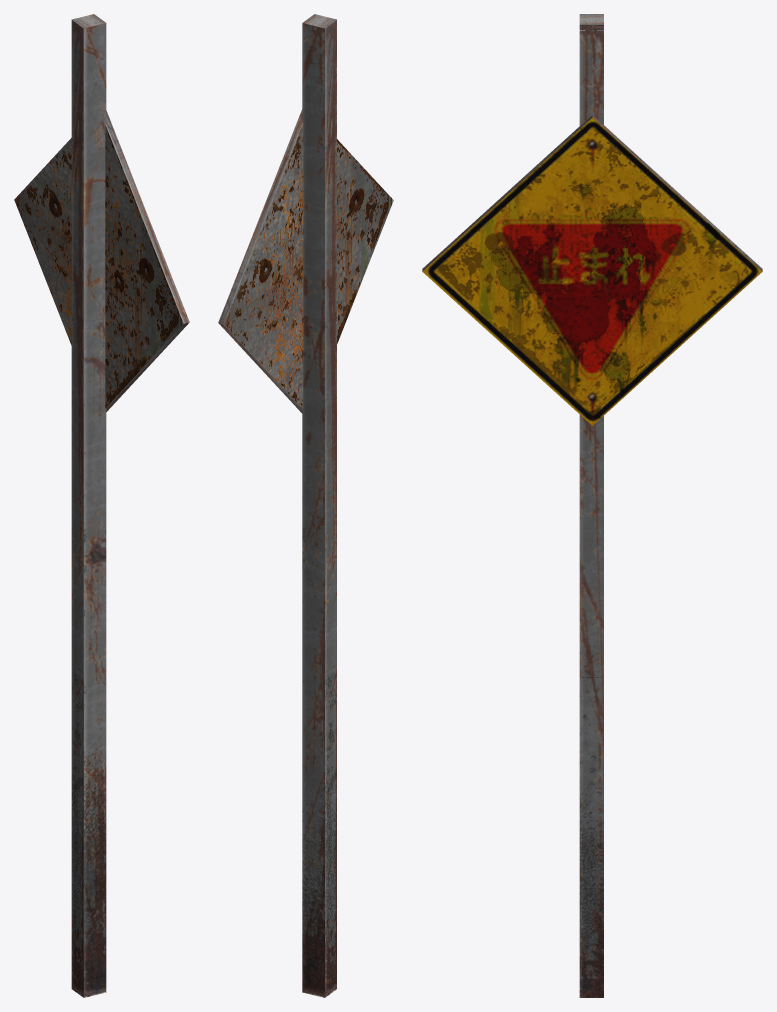
Rendered from RoadSign02.fbx.
3 renders of one model, left to right at view 1: azimuth 30°, elevation 25°; view 2: azimuth 150°, elevation 25°; view 3: azimuth 270°, elevation 25°, orthographic.
Visible parts, largest first — view 1: RoadSign02; view 2: RoadSign02; view 3: RoadSign02.
Boxes of the visible parts, x1,y1,x2,y2 form: RoadSign02: [14, 14, 189, 997]; RoadSign02: [218, 14, 393, 997]; RoadSign02: [422, 14, 762, 997].
Bounding box in the file's own units: 4.19 × 140 × 44.32.
